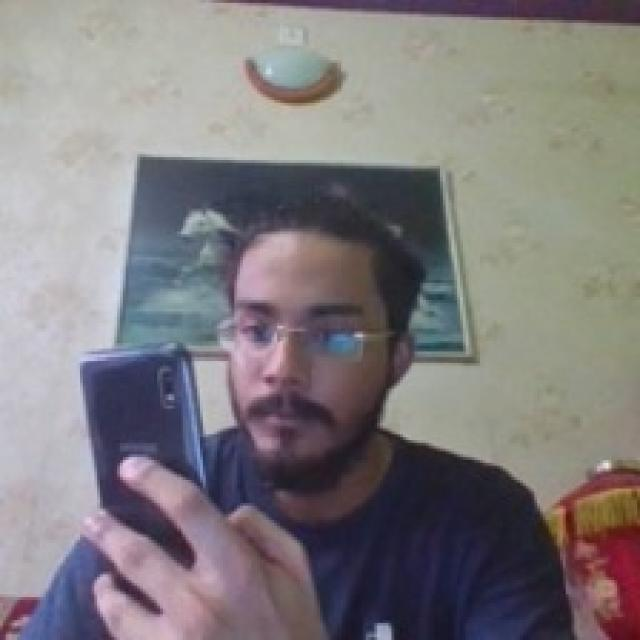Phone: (81, 340, 215, 523)
